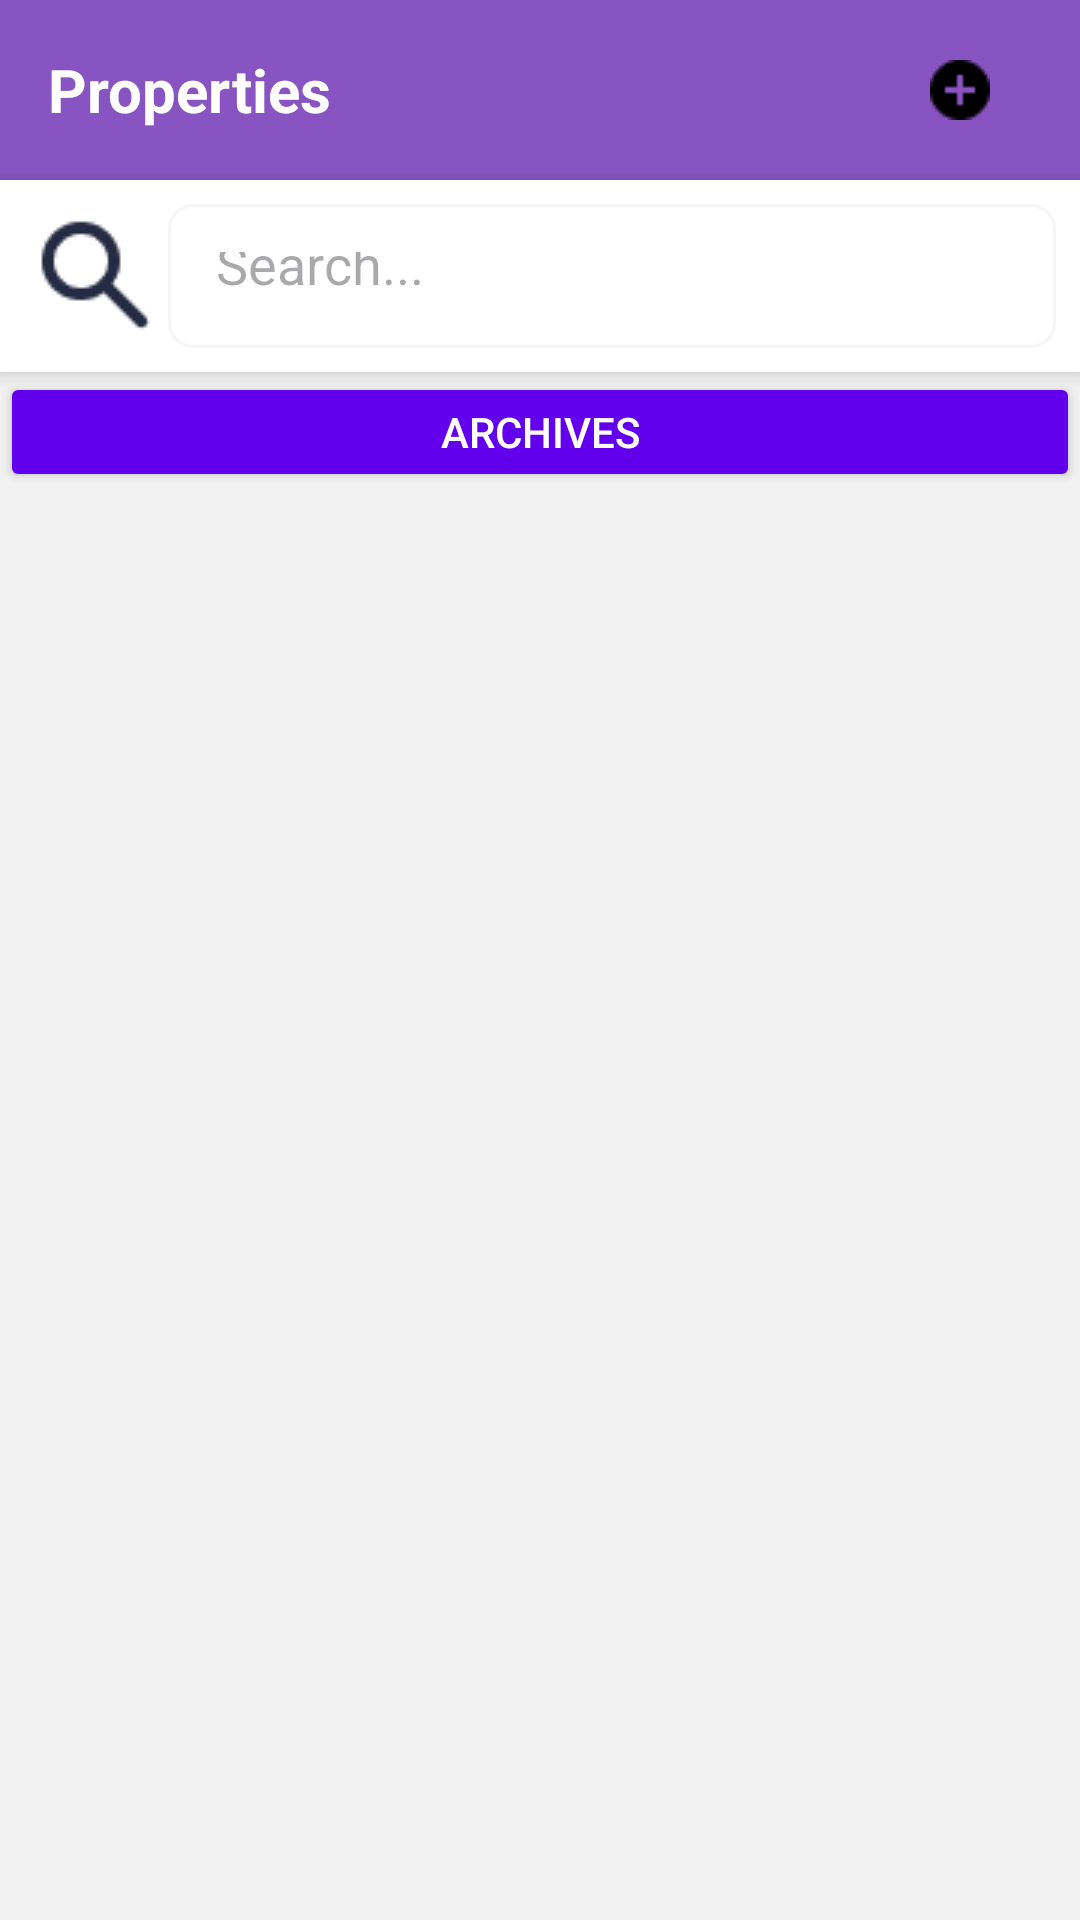

Where icons sit on this 1080×1920 app screen, as (x1=x1, y1=y1, x2=x2, y2=y2):
Ajouter prop: (x1=930, y1=60, x2=990, y2=120)
